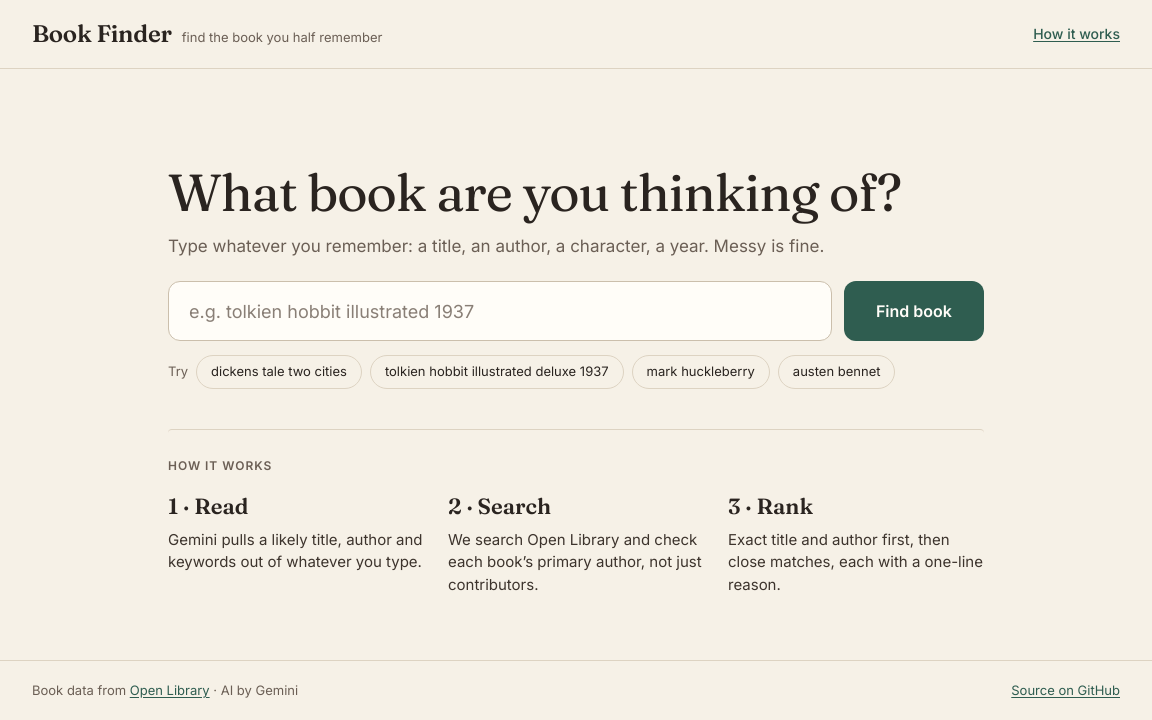
Test: App › shows the AI-unavailable banner for rule-based results
In the search field labelled "What book are you thinking of?": (500, 311) [168,281,832,341], type "tolkien hobbit"
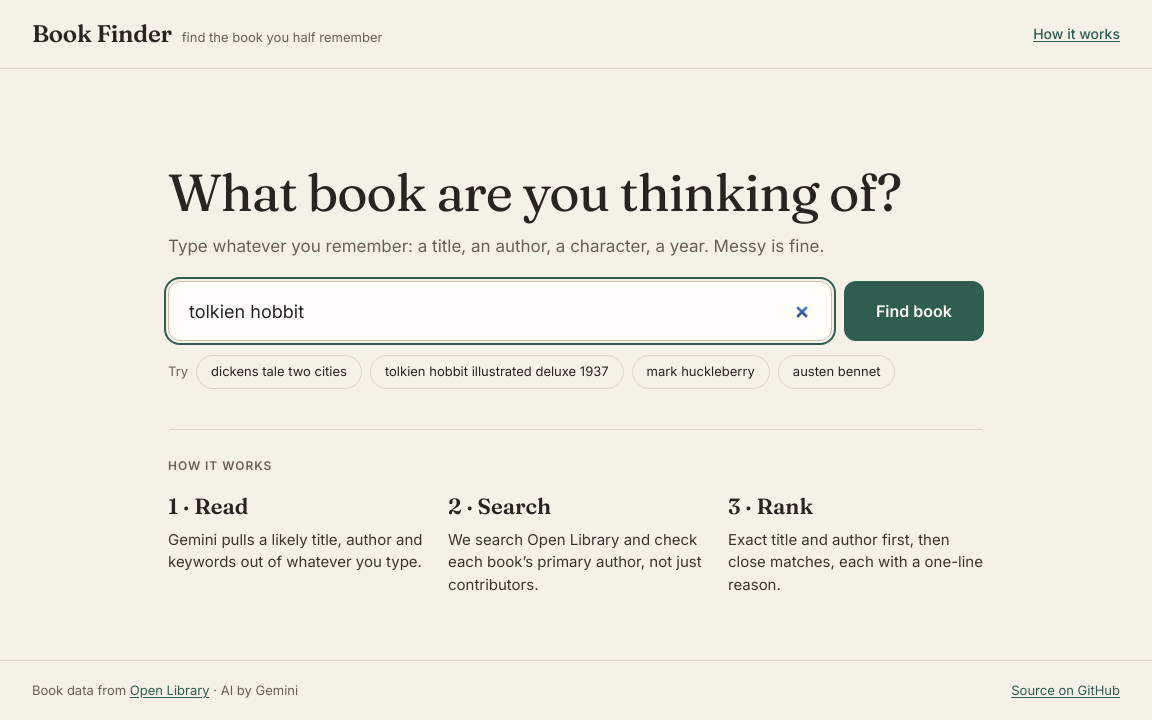
Click the button "Find book": (914, 311) [844,281,984,341]
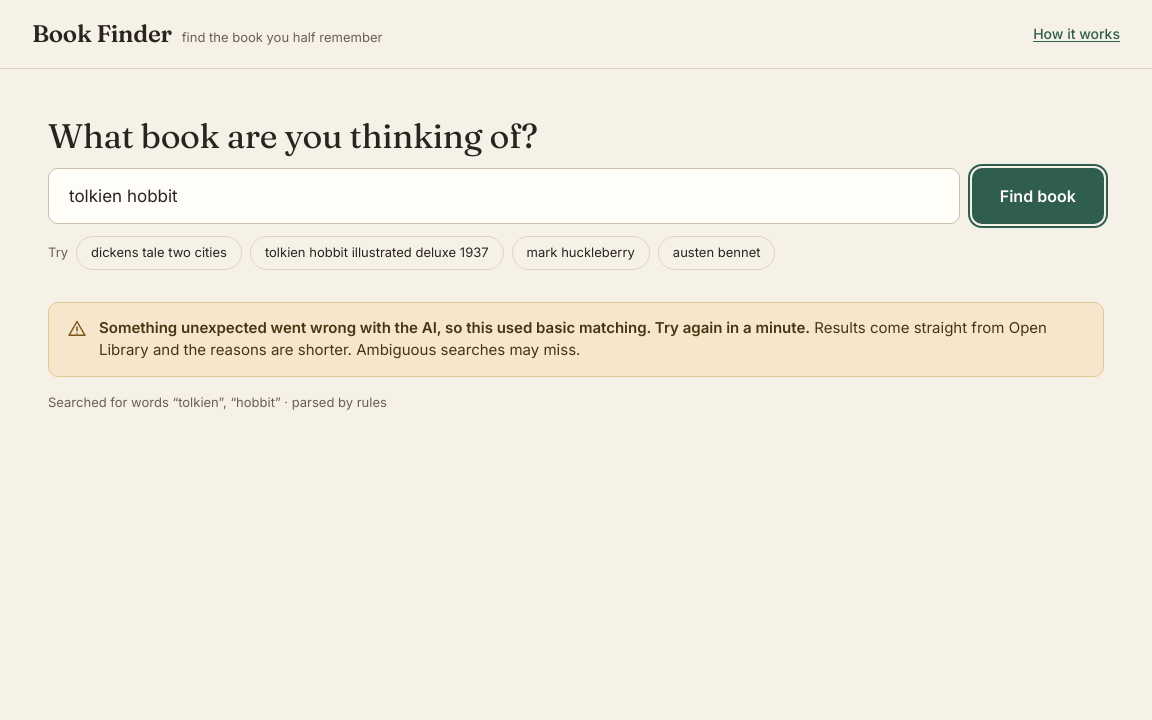
Expected: the text "Something unexpected went wrong with the AI" is shown, [99,318,810,337]
